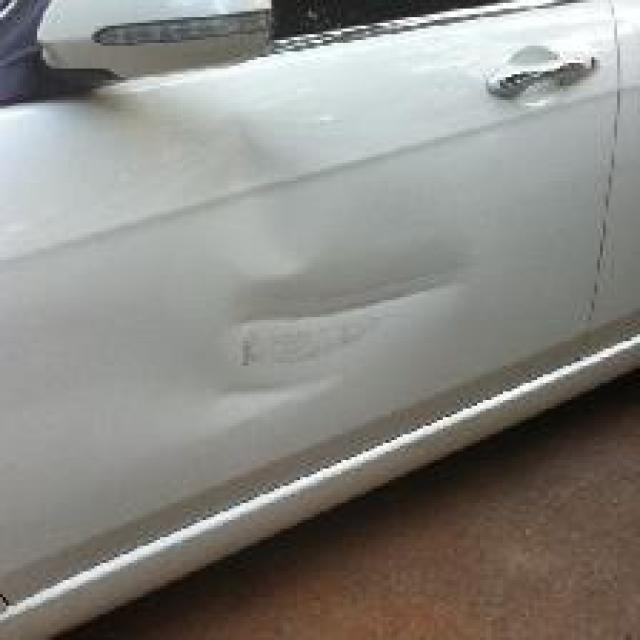door_dent_minor: (206, 251, 474, 394)
